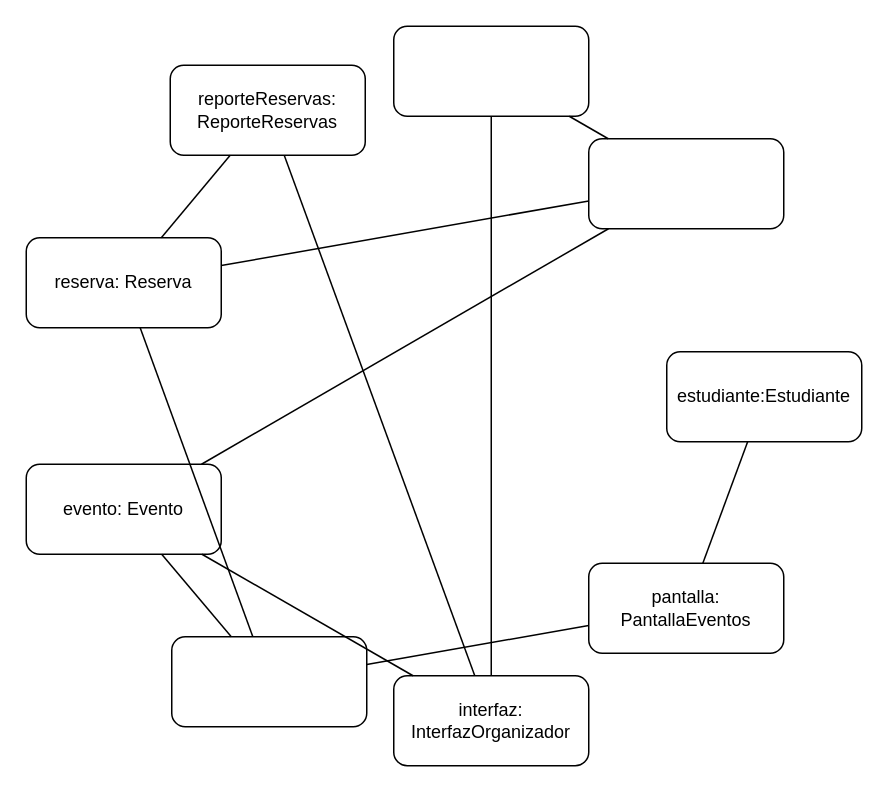
The diagram is 888 pixels wide and 792 high, and some of its shapes have lost their labels. The shapes that lost their labels are listed below. From the top down, each one's centre as x and y in pixels, then its label:
At pixel 490 70: "reporteAsistencia: ReporteAsistencia".
At pixel 685 183: "ingreso: Ingreso".
At pixel 268 681: "calculo: CalcularDisponibilidad".
